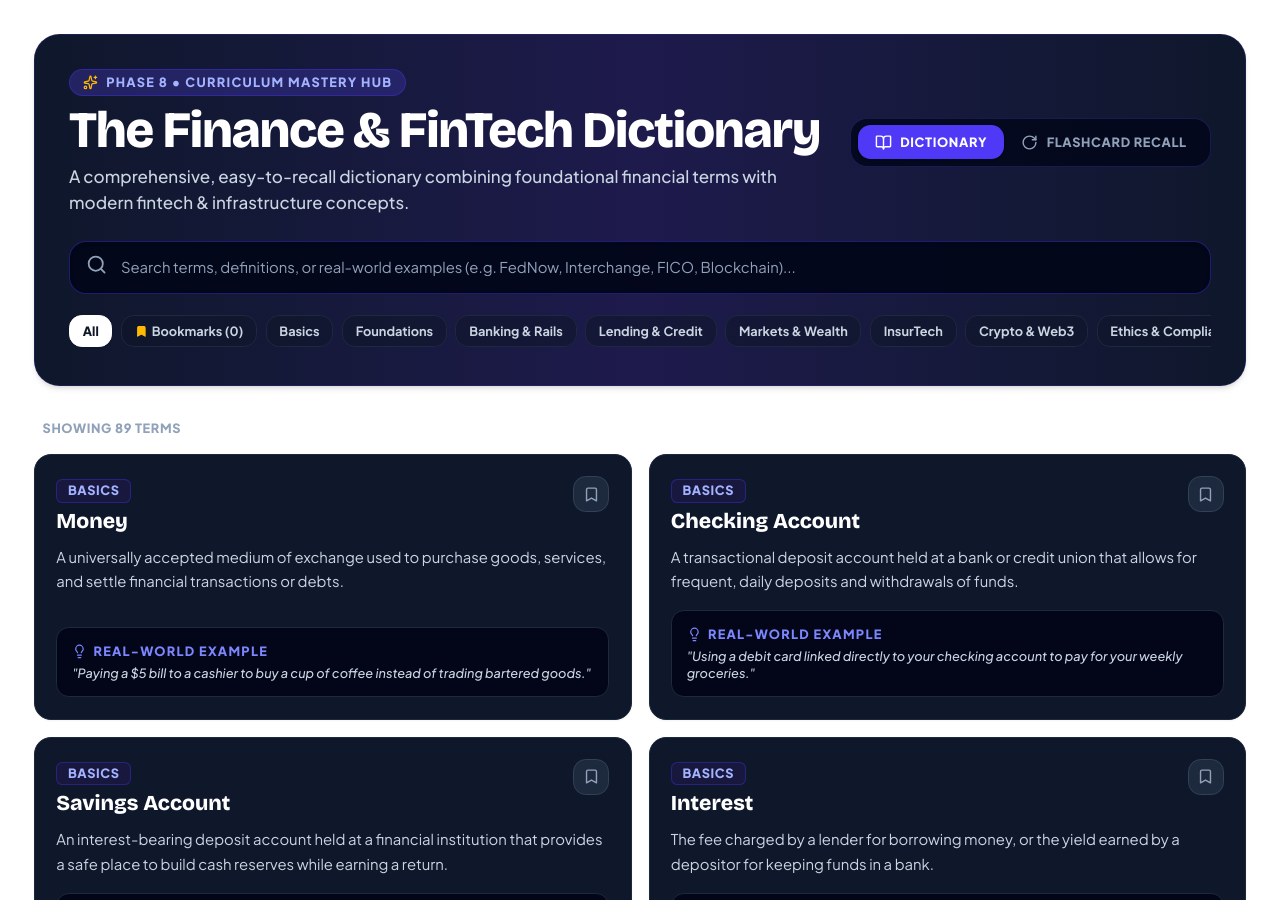
Test: FinanceGlossary › shows bookmarks filter count
Click the 1st button titled "Save to Bookmarks".
click(591, 494)  # box left=573, top=476, right=609, bottom=512
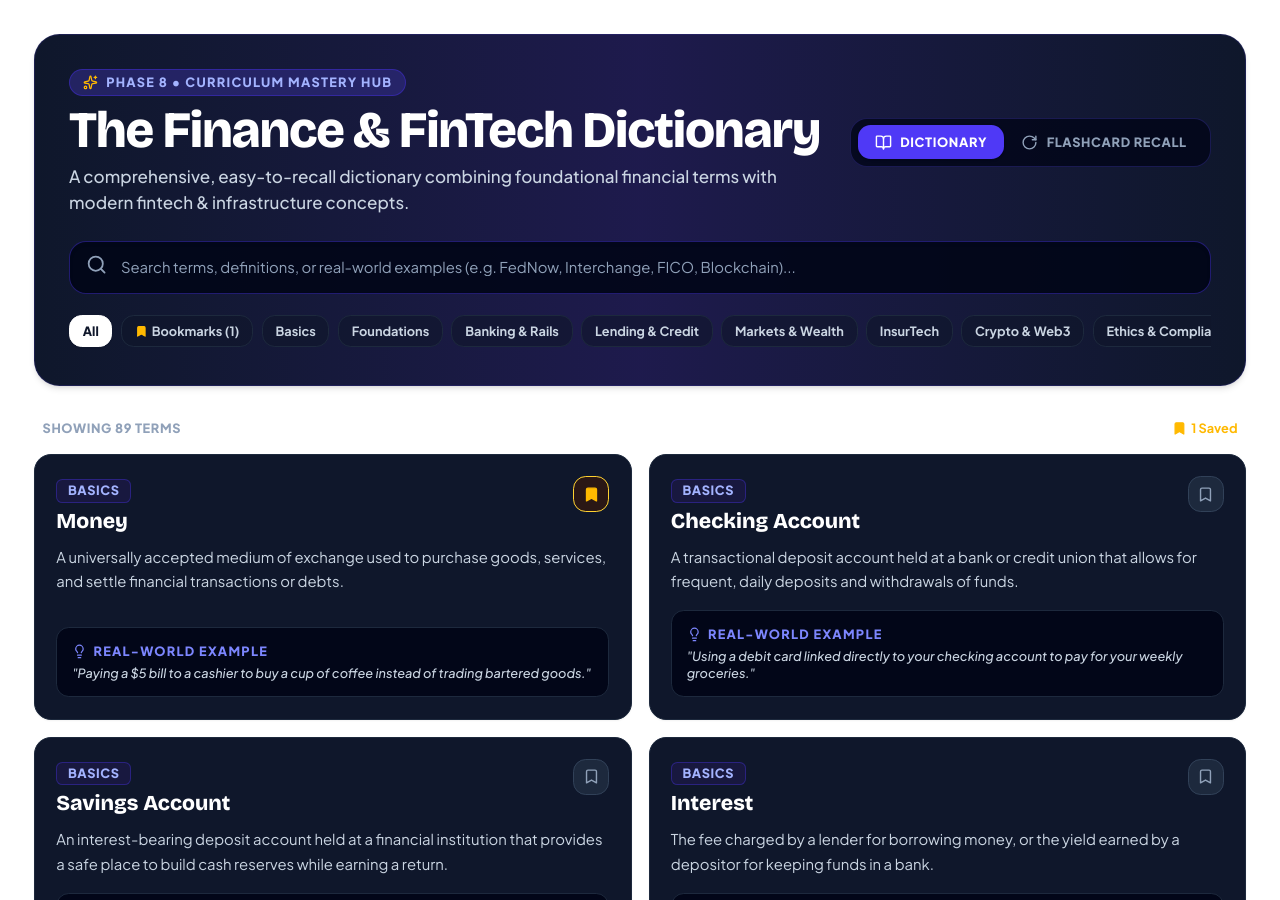
Result: the text "Bookmarks (1)" is shown at left=152, top=323, right=239, bottom=340
